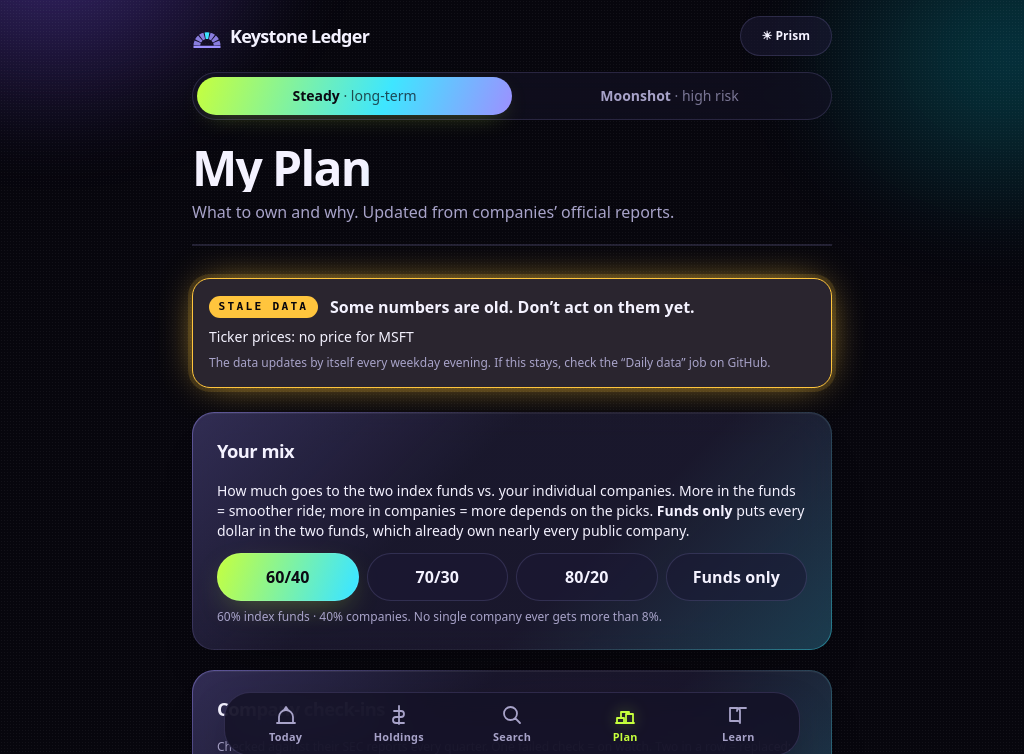
Scenario: iPhone app › Plan: switching to 80/20 moves money to the funds
This screenshot has width=1024, height=754.
Click the radio button labelled "80/20": (587, 577) [516,553,658,601]
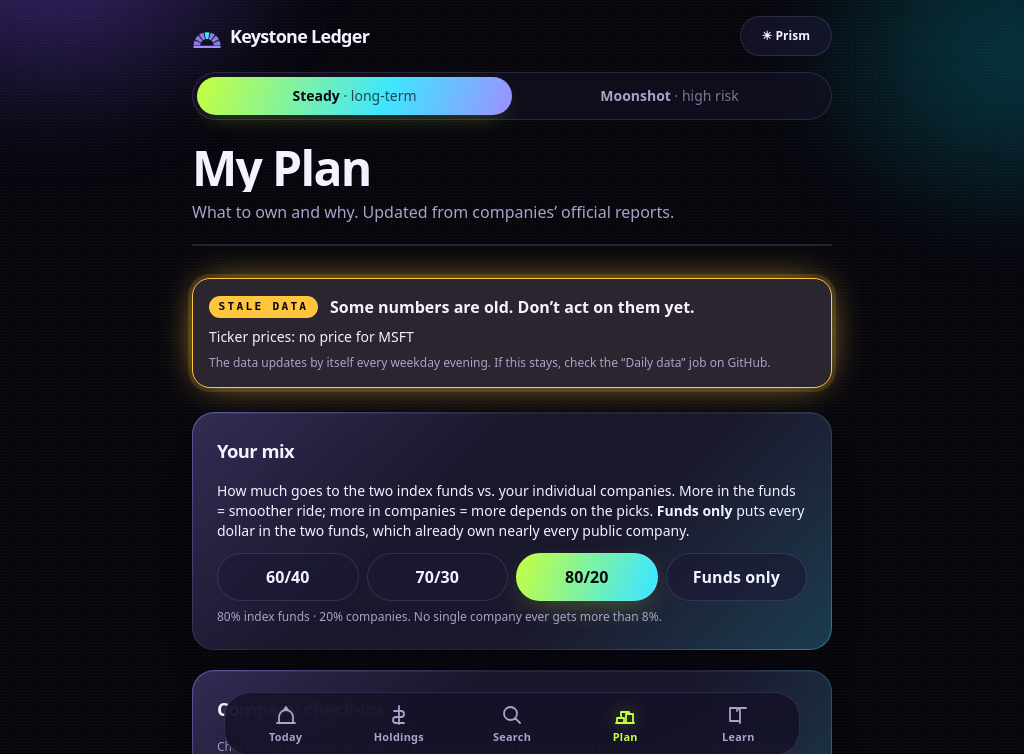
Expected: the text "80% index funds · 20% companies" is shown, [217,608,662,625]
